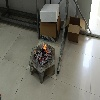fire: (43, 41, 48, 54), (35, 51, 36, 53)
